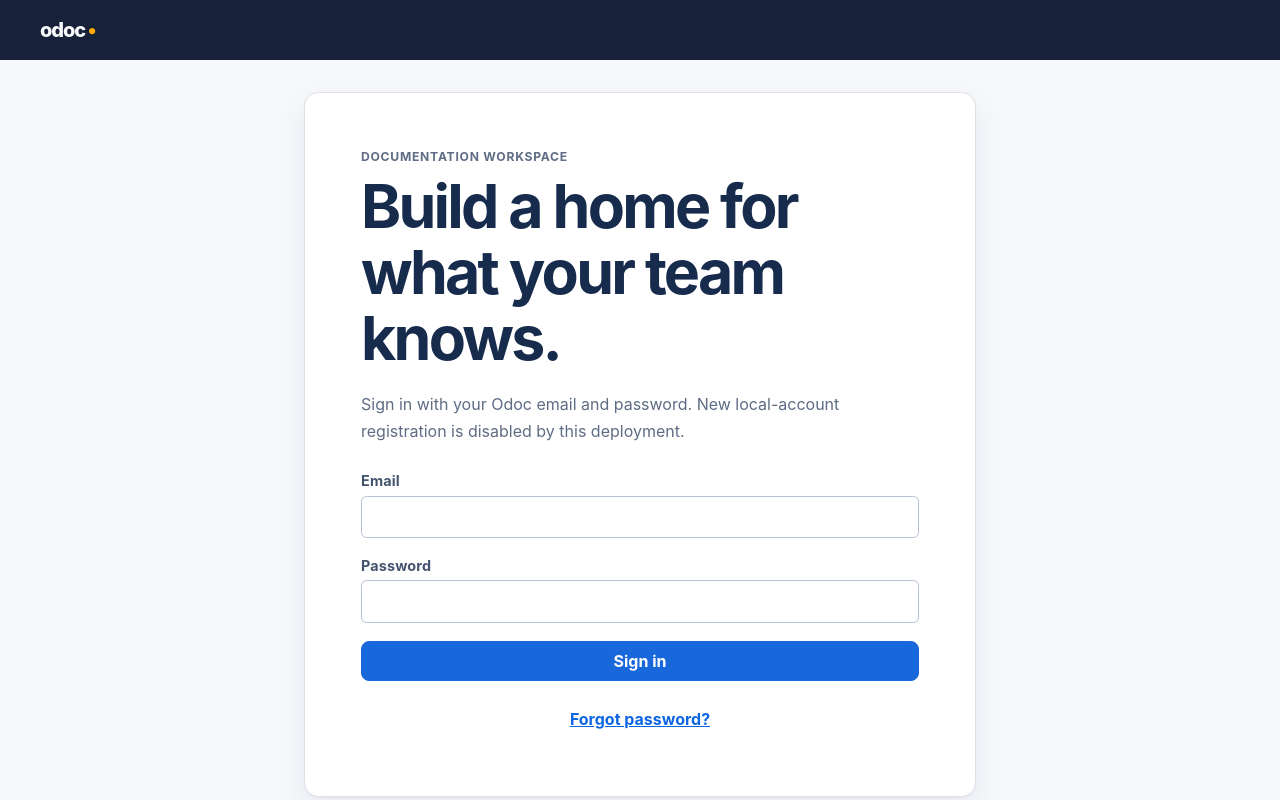
App › keeps an unverified account out of workspace queries until its email is verified
This screenshot has width=1280, height=800.
Type "unverified@example.test" into the field labelled "Email" at point(640, 517), box x1=361 y1=496 x2=919 y2=538
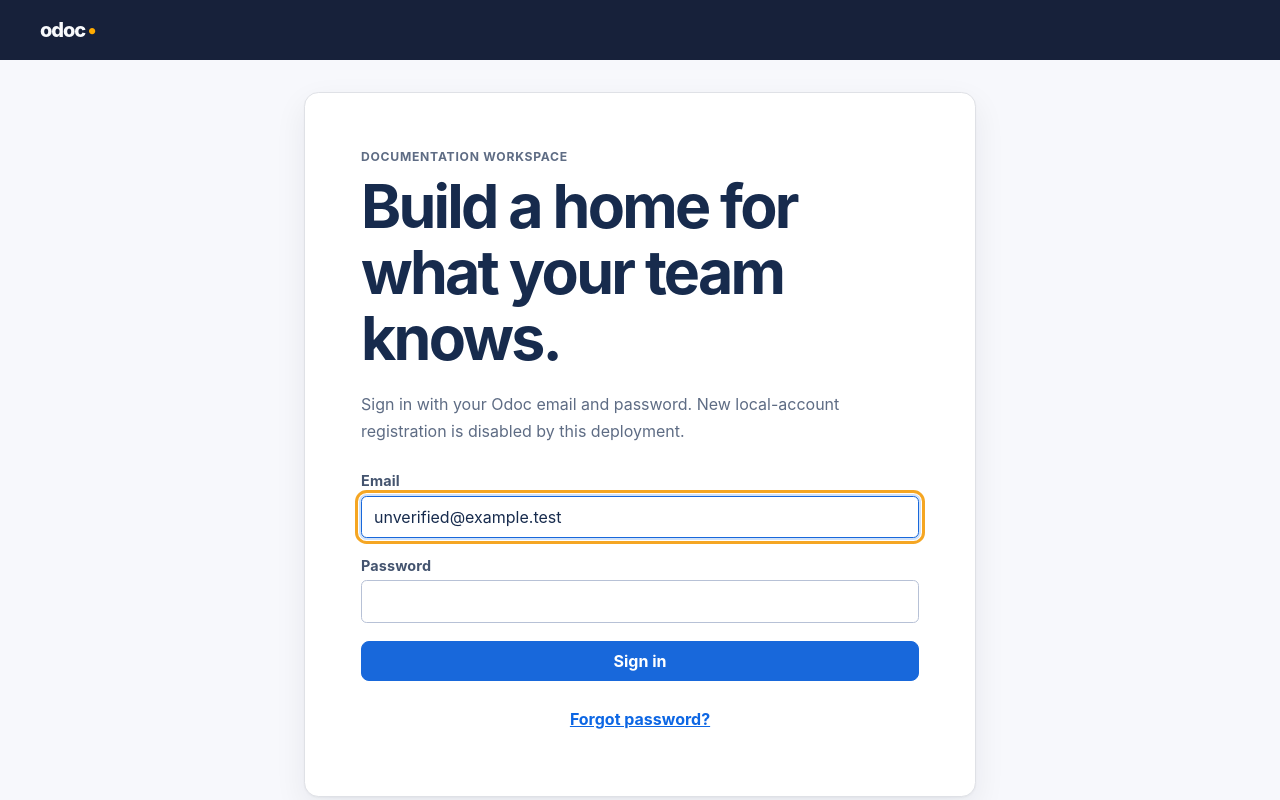
Type "a-long-local-password" into the password field labelled "Password" at point(640, 602), box x1=361 y1=580 x2=919 y2=623
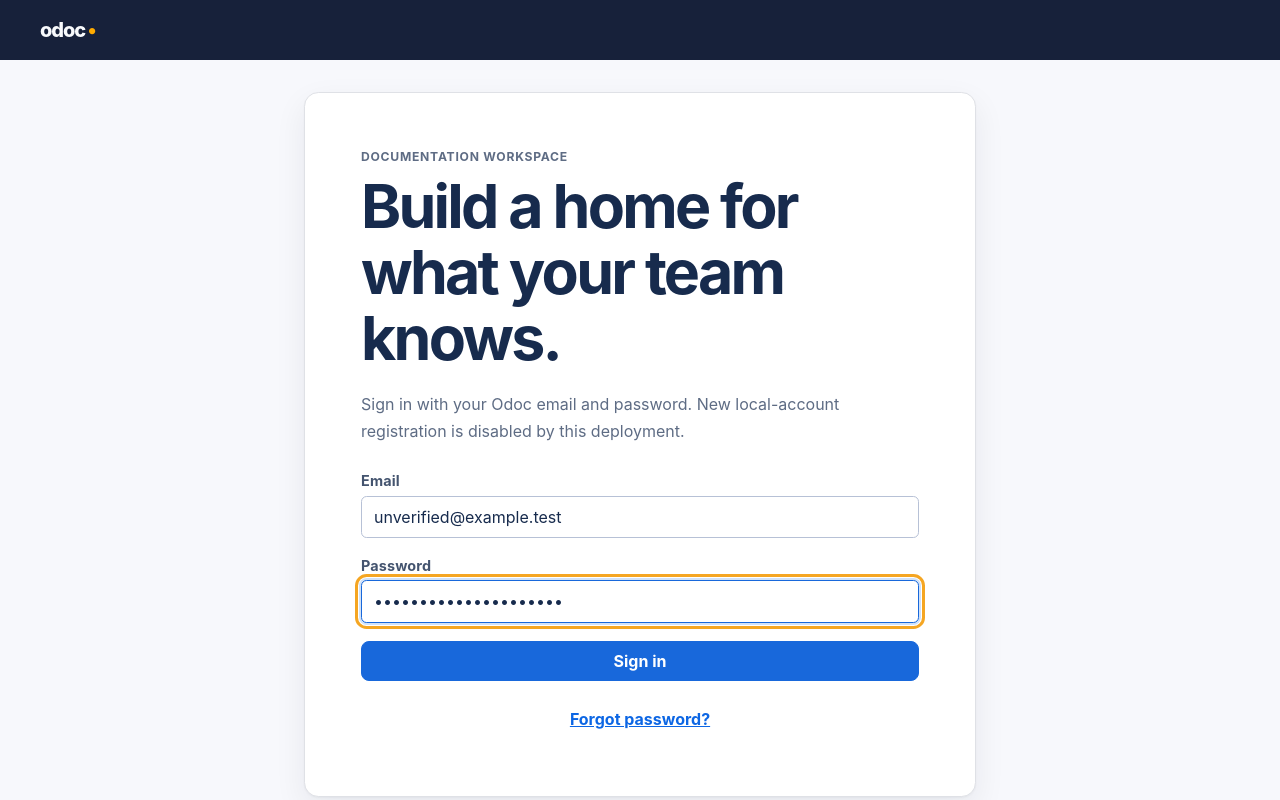
Click the button "Sign in" at point(640, 661), box x1=361 y1=641 x2=919 y2=681
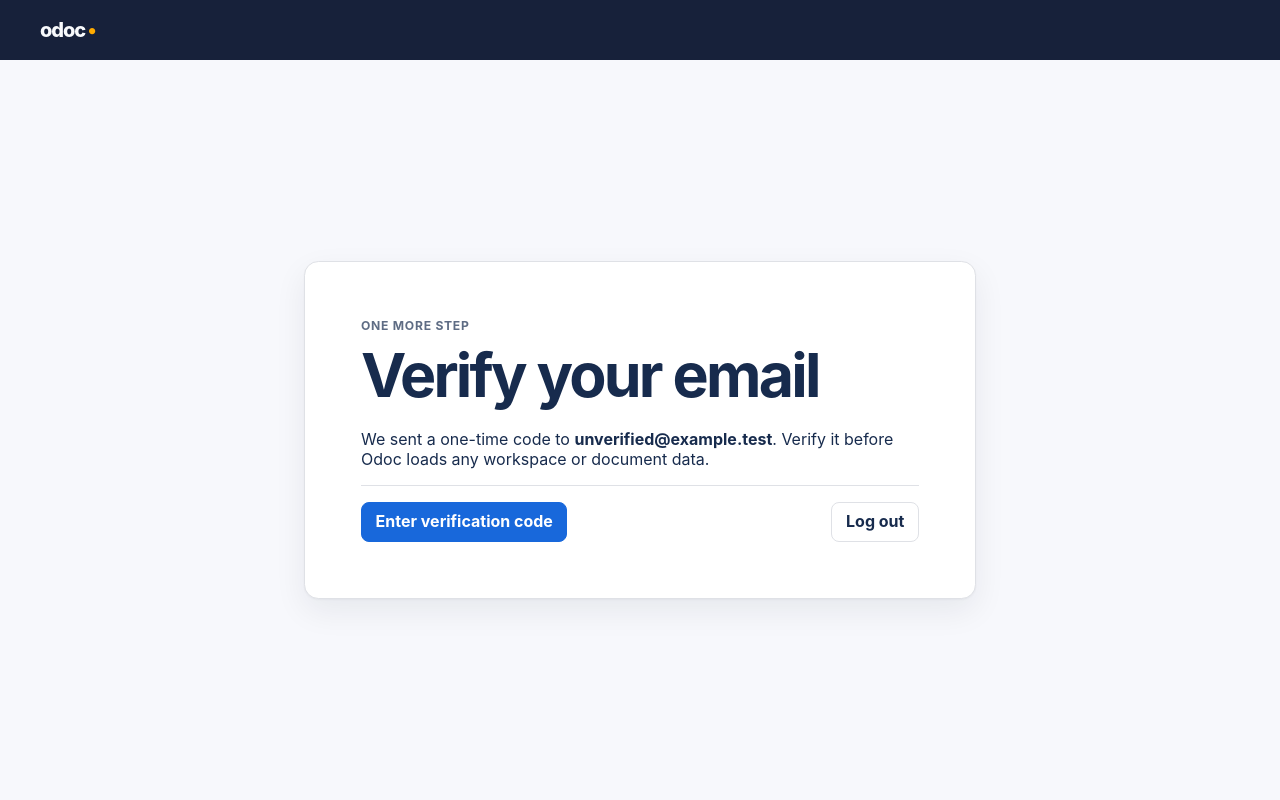
Result: the heading "Verify your email" is shown at x1=361 y1=338 x2=819 y2=412
